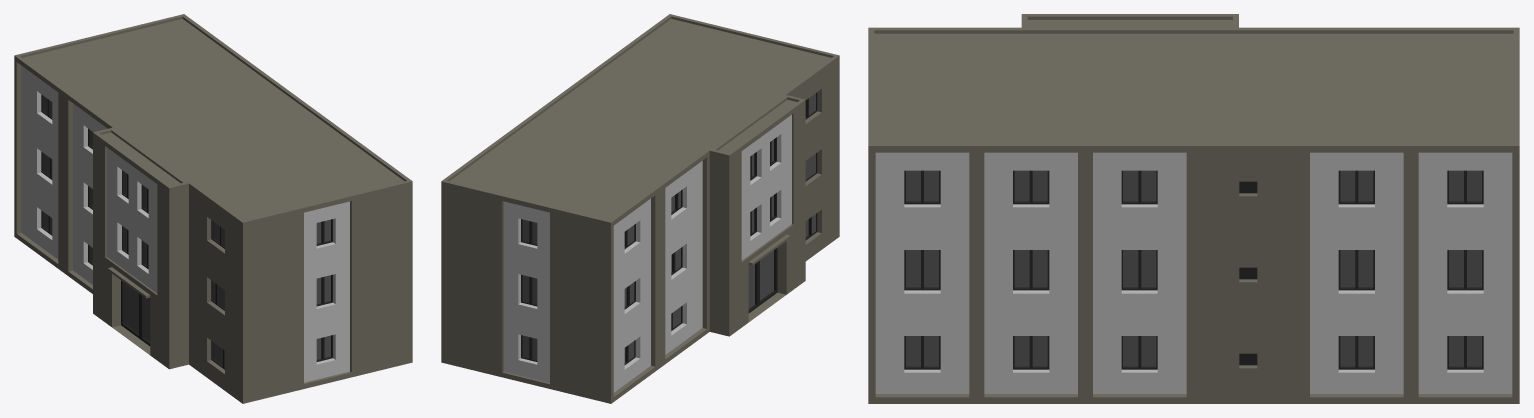
The model's file is infermerie.gltf.
3 renders of one model, left to right at view 1: azimuth 30°, elevation 25°; view 2: azimuth 150°, elevation 25°; view 3: azimuth 270°, elevation 25°, orthographic. The views are drawn at different scales.
Parts seen in each view (by area): view 1: anglais B; view 2: anglais B; view 3: anglais B.
Boxes of the visible parts, x1=… form: anglais B: x1=14, y1=14, x2=412, y2=403; anglais B: x1=441, y1=14, x2=839, y2=403; anglais B: x1=868, y1=14, x2=1519, y2=403.
Size of the model in its own units: 21.39 by 19.1 by 43.69.
Materials: 1 (1 with a texture image).
